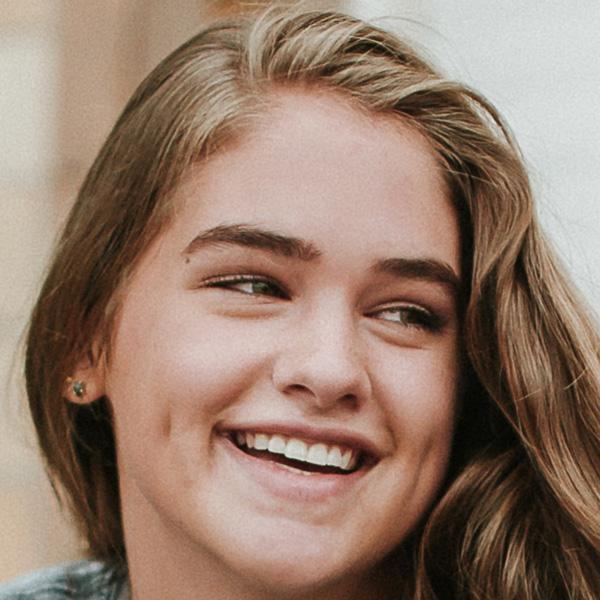Eyes: (186, 252, 301, 314), (348, 285, 450, 351)
